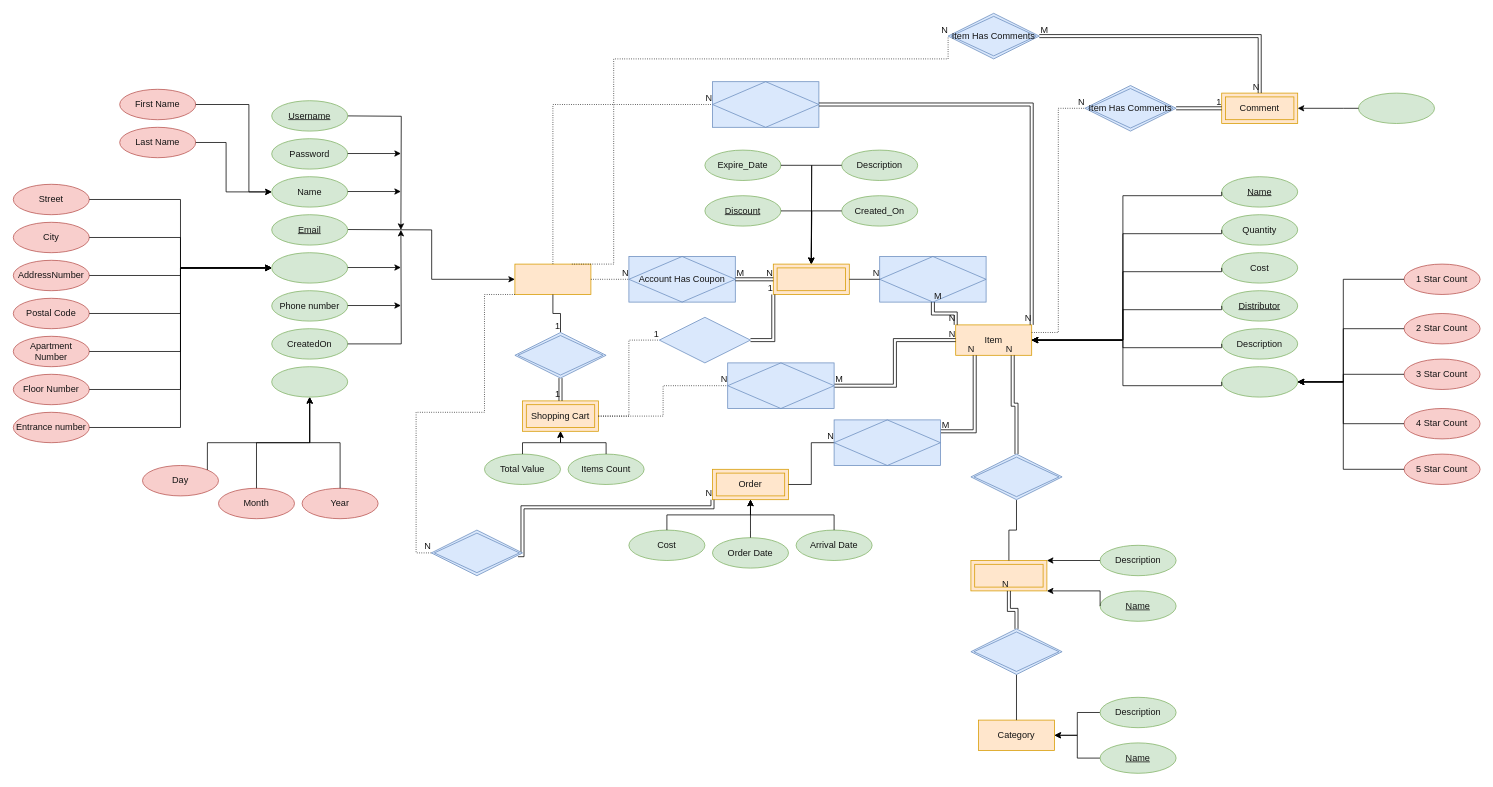
Image size: 1493x787. Some labels were removed from this diagram. Each missing label, with the centre of its shape:
Account: pixel 552 278
Account Has Cart: pixel 560 355
Account Has Orders: pixel 476 552
Address: pixel 309 267
BirthDay: pixel 309 381
Cart Has Item: pixel 780 385
Cart Uses Coupon: pixel 704 340
Category Has SubCategory: pixel 1016 651
Coupon: pixel 811 278
Coupon For Item: pixel 932 279
Favourites Have Item: pixel 765 104
ItemHasSubCategory: pixel 1016 476
Order Has Item: pixel 886 442
Rating: pixel 1259 381
Sub Category: pixel 1008 575
Text: pixel 1396 108
